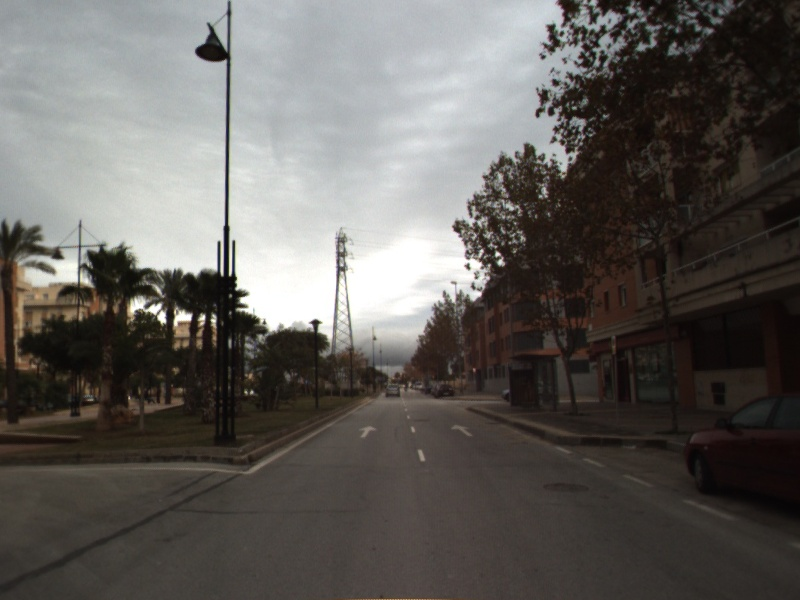STRAIGHT: (449, 422, 475, 438), (357, 424, 379, 440)
